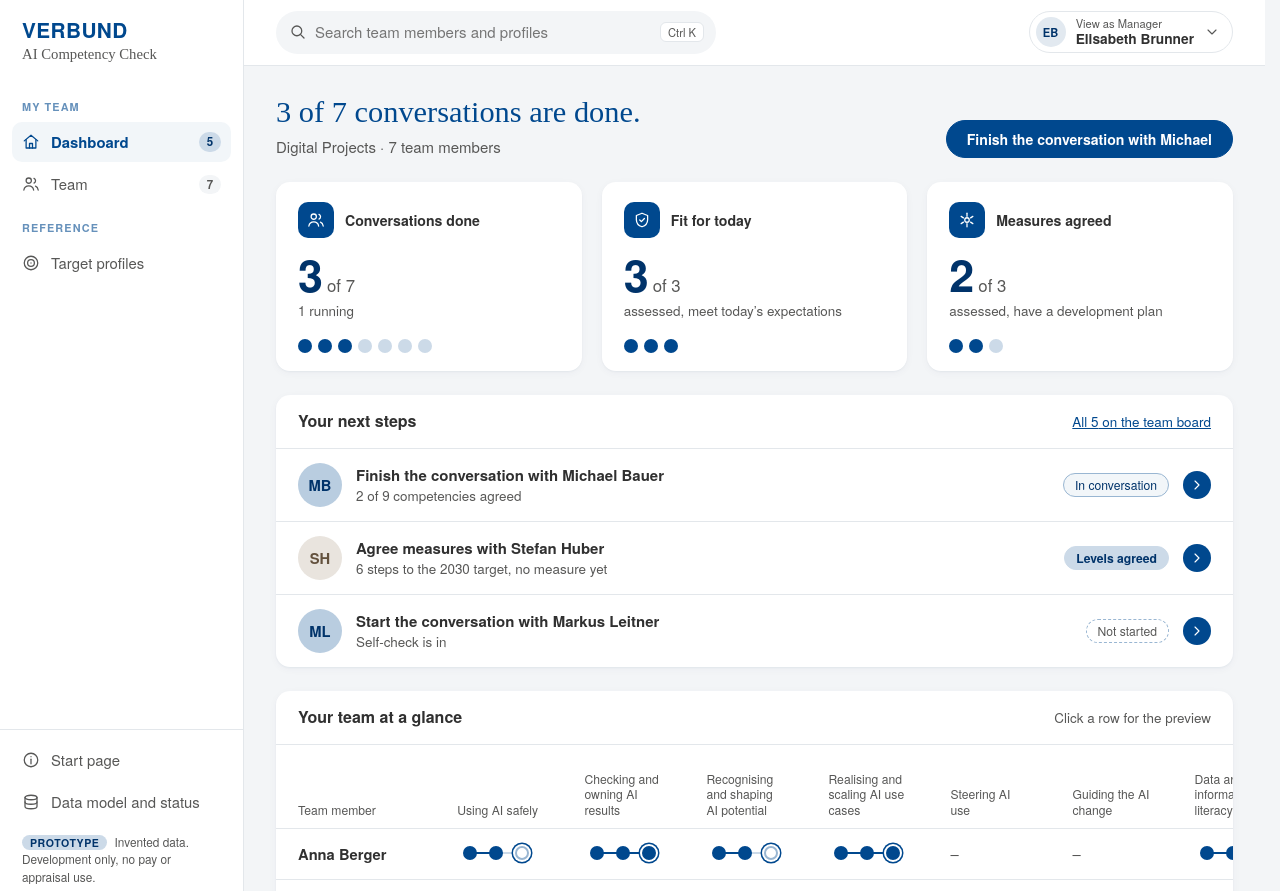
it: view as › switches the role from the list at the top right
Expected: the navigation bar named "Main" is shown, left=12, top=100, right=231, bottom=273
Step 1. Click the button "EB View as Manager Elisabeth Brunner" → click(1131, 32), box left=1029, top=11, right=1233, bottom=53
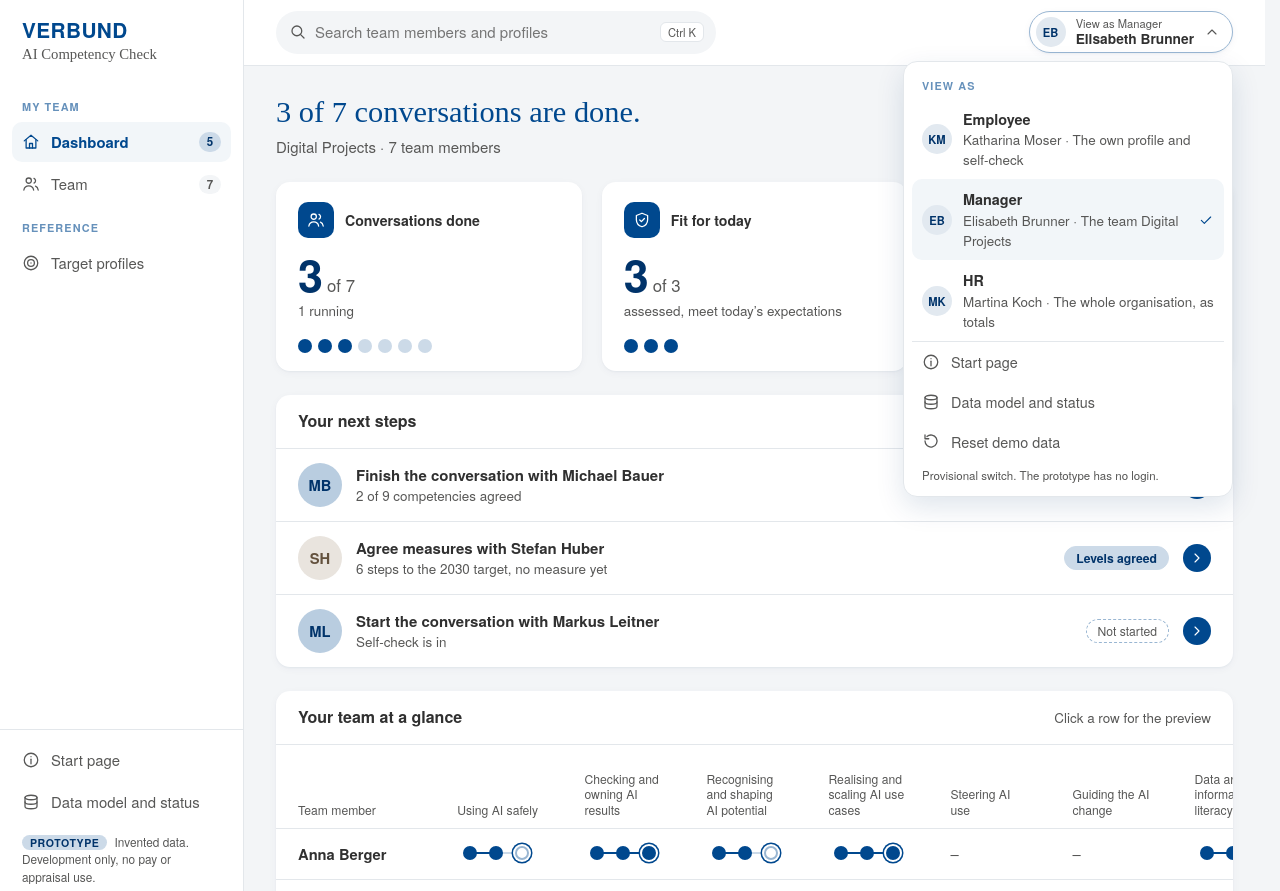
Step 2. Click the link "MK HR Martina Koch · The whole organisation, as totals" → click(1068, 301), box left=912, top=260, right=1224, bottom=341
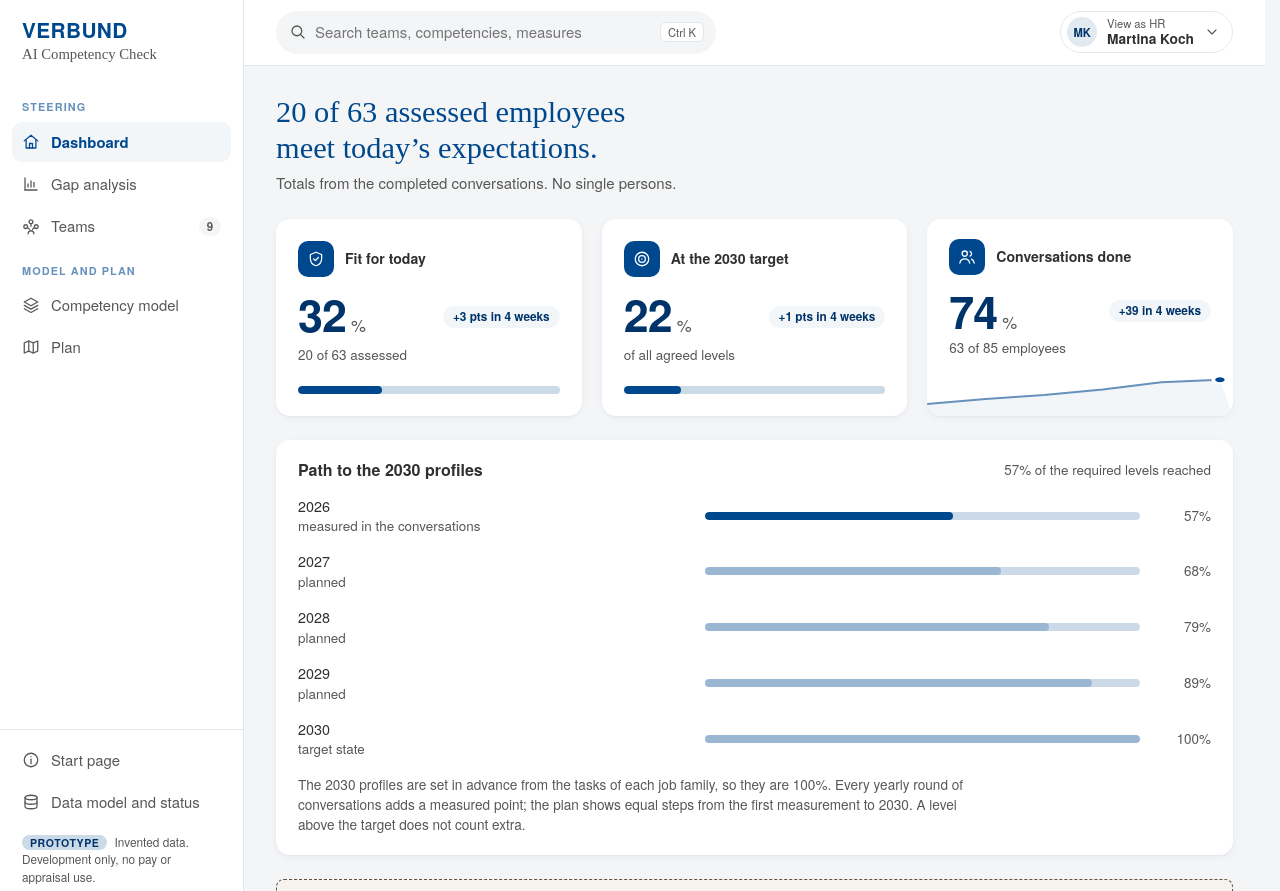
Expected: the button "MK View as HR Martina Koch" is shown, left=1060, top=11, right=1233, bottom=53
Expected: the heading "20 of 63 assessed employees meet today’s expectations." is shown, left=276, top=94, right=625, bottom=165
